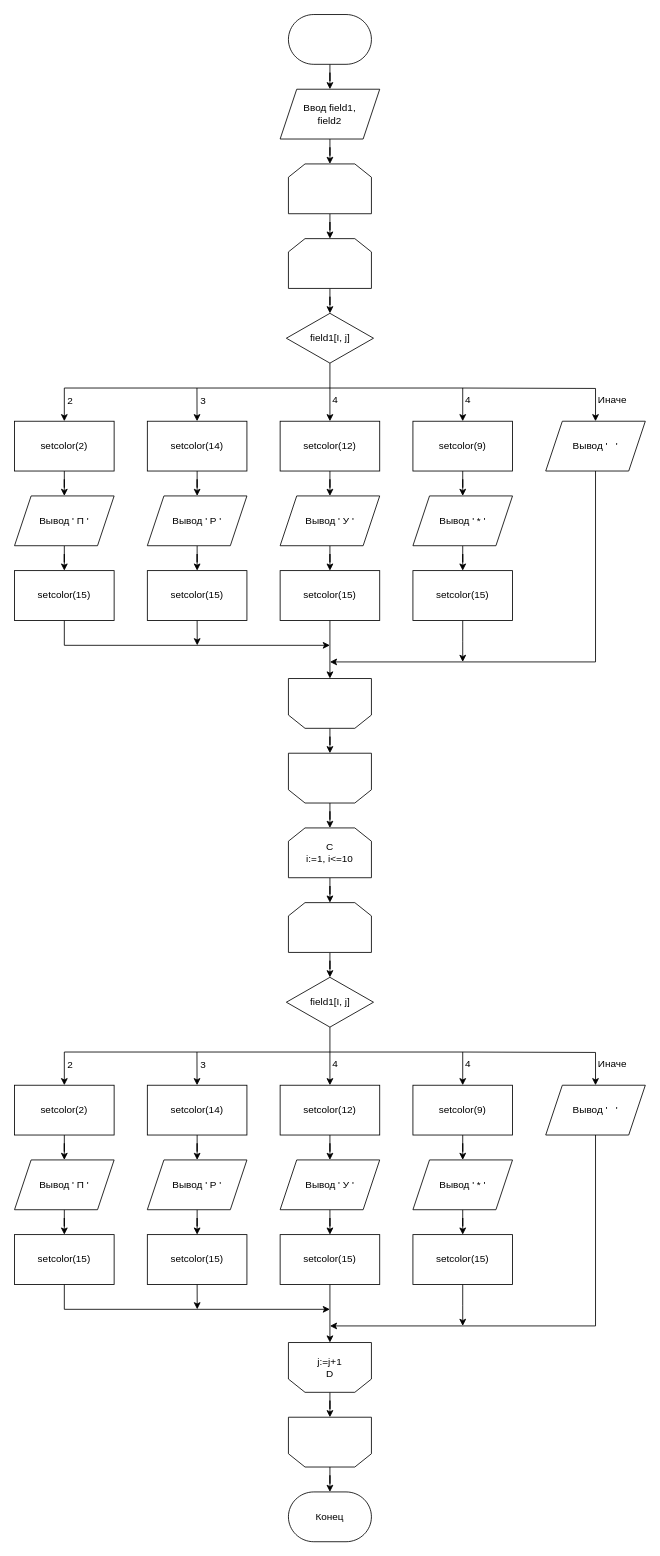
The diagram is 660 pixels wide and 1556 high, and some of its shapes have lost their labels. The centre of each missing label's shape, as x and y in pixels:
A i:=1, i<=10: [329,188]
B j:=1, j<=10: [329,263]
D j:=1, j<=10: [329,927]
i:=i+1 A: [329,777]
i:=i+1 C: [329,1441]
j:=j+1 B: [329,703]
Render Начало: [329,39]
